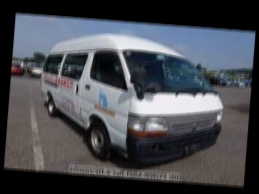van: (32, 26, 229, 171)
